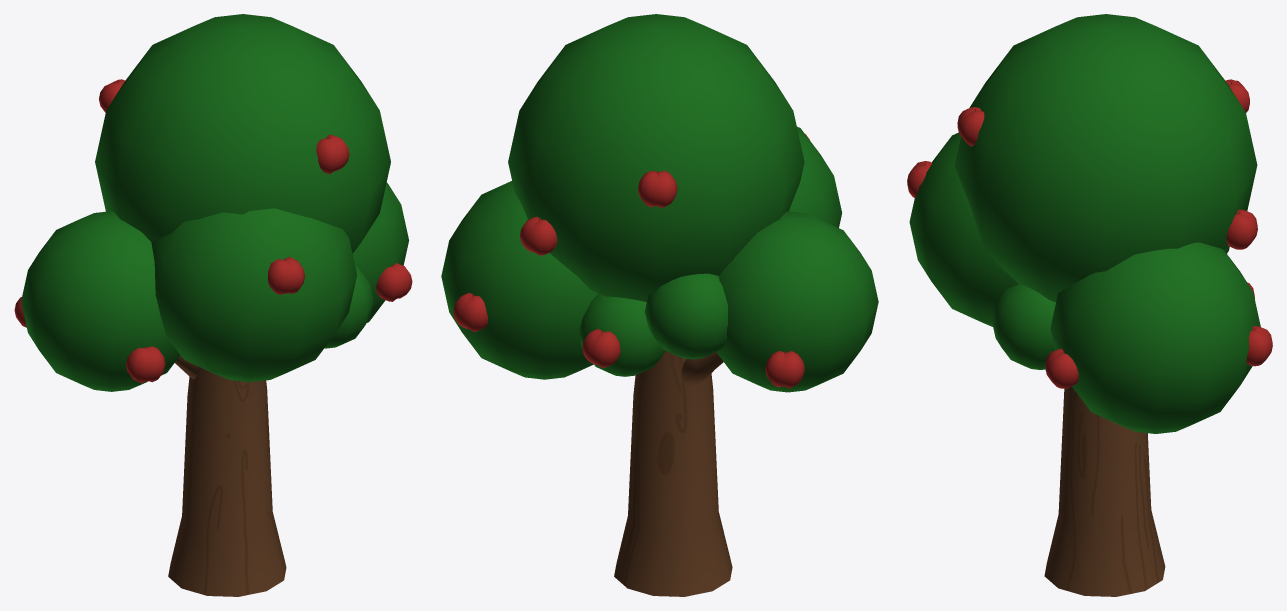
The model's file is Tree2_Apples.fbx.
3 views of the same model, side by side, from view 1: azimuth 30°, elevation 25°; view 2: azimuth 150°, elevation 25°; view 3: azimuth 270°, elevation 25° (orthographic). The views are drawn at different scales.
Visible parts, largest first — view 1: Sphere.001, Cylinder.001, Sphere.008, Sphere.005, Sphere.009, Sphere.007; view 2: Sphere.001, Cylinder.001, Sphere.002, Sphere.004, Sphere.003, Sphere, Sphere.010; view 3: Sphere.001, Cylinder.001, Sphere.009, Sphere, Sphere.010, Sphere.007, Sphere.005.
Part boxes in pixels (x1,y1,x2,y2): Sphere.001: [21, 14, 408, 391]; Cylinder.001: [168, 355, 286, 596]; Sphere.008: [126, 346, 165, 383]; Sphere.005: [267, 257, 304, 294]; Sphere.009: [376, 263, 412, 301]; Sphere.007: [316, 134, 349, 173]; Sphere.001: [441, 14, 878, 392]; Cylinder.001: [614, 351, 732, 596]; Sphere.002: [638, 170, 677, 207]; Sphere.004: [765, 350, 804, 388]; Sphere.003: [582, 329, 620, 367]; Sphere: [520, 216, 557, 255]; Sphere.010: [453, 292, 487, 331]; Sphere.001: [909, 14, 1260, 433]; Cylinder.001: [1044, 386, 1165, 596]; Sphere.009: [1045, 348, 1078, 388]; Sphere: [1226, 209, 1257, 249]; Sphere.010: [1246, 326, 1272, 366]; Sphere.007: [957, 107, 984, 146]; Sphere.005: [907, 161, 932, 197].
Bounding box in the file's own units: 261 × 348 × 209.
Materials: 3 (1 with a texture image).
